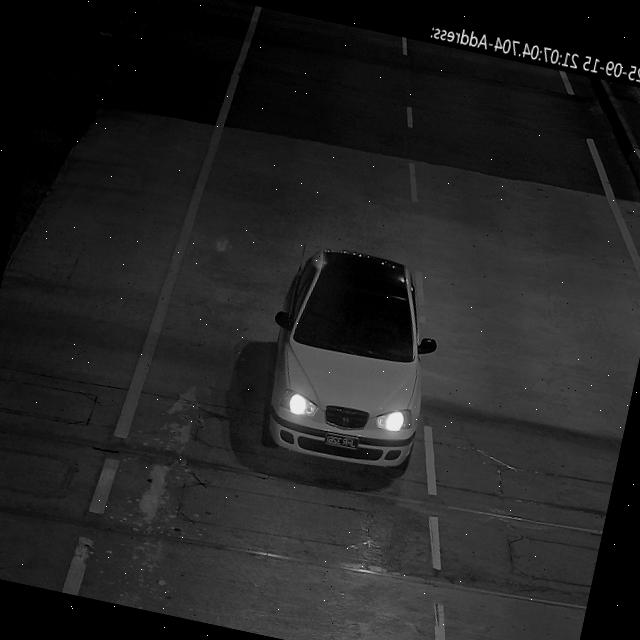front: (314, 428, 364, 458)
